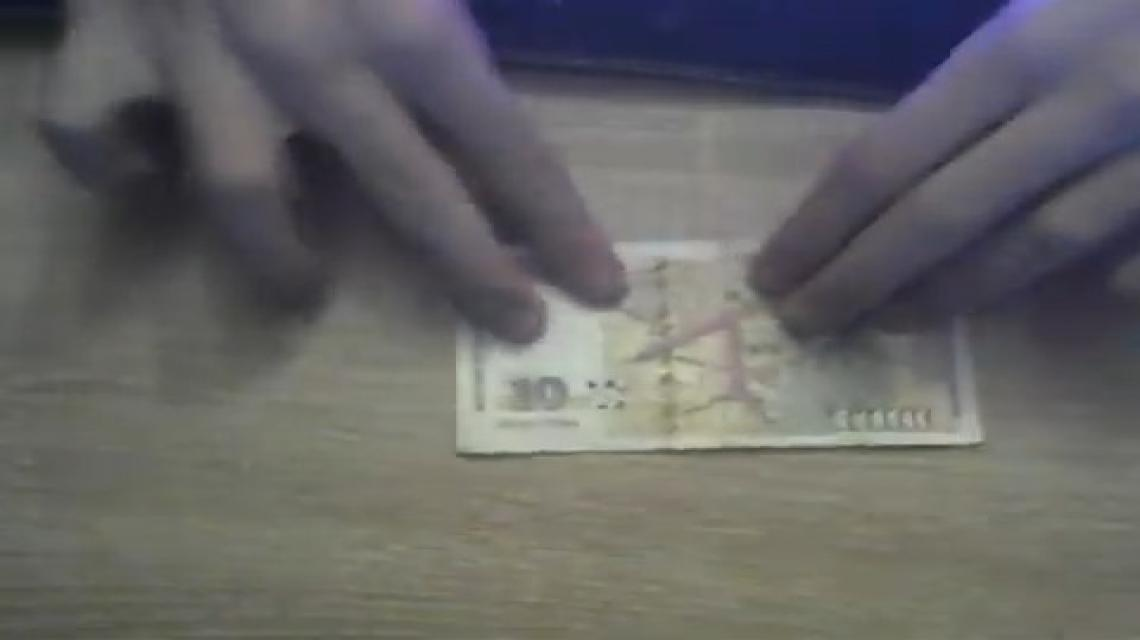10leva: (454, 238, 986, 459)
